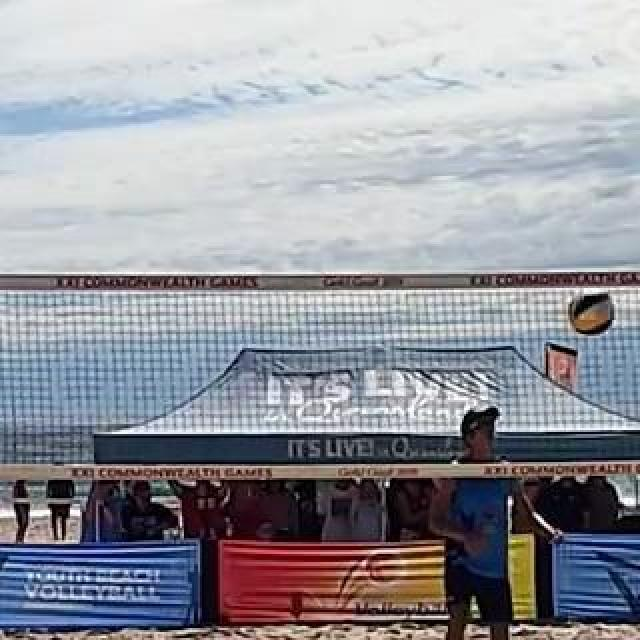volleyball: (571, 290, 615, 336)
